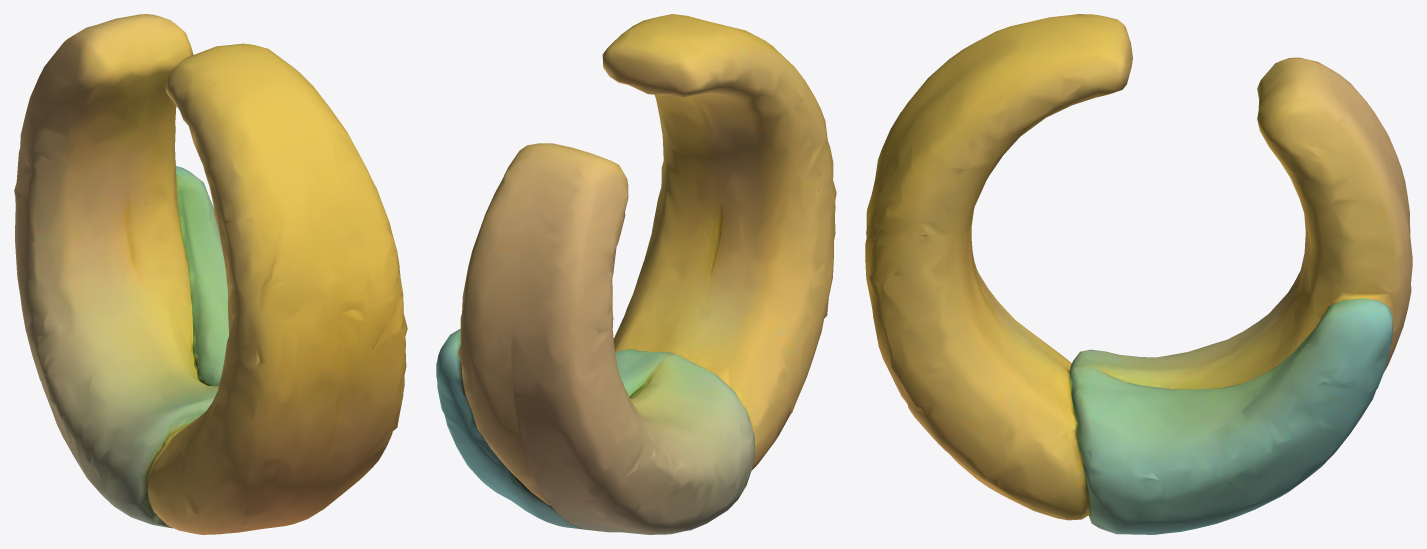
File: moon.glb
3 views of the same model, side by side, from view 1: azimuth 30°, elevation 25°; view 2: azimuth 150°, elevation 25°; view 3: azimuth 270°, elevation 25° (orthographic). The views are drawn at different scales.
Parts seen in each view (by area): view 1: tripo_node_d1e9cb7e-d07d-41e1-bc01-487426ea98bb; view 2: tripo_node_d1e9cb7e-d07d-41e1-bc01-487426ea98bb; view 3: tripo_node_d1e9cb7e-d07d-41e1-bc01-487426ea98bb.
Boxes of the visible parts, x1,y1,x2,y2 form: tripo_node_d1e9cb7e-d07d-41e1-bc01-487426ea98bb: (14, 14, 407, 534); tripo_node_d1e9cb7e-d07d-41e1-bc01-487426ea98bb: (436, 14, 836, 534); tripo_node_d1e9cb7e-d07d-41e1-bc01-487426ea98bb: (865, 14, 1412, 534).
Bounding box in the file's own units: 0.4645 × 0.9815 × 1.
1 material, 1 textured.
